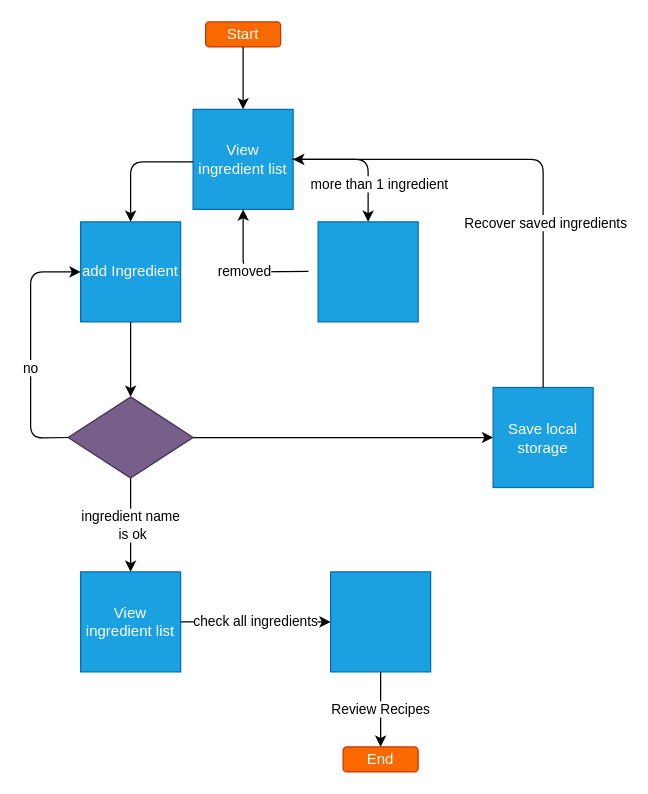
The diagram is 648 pixels wide and 794 high, and some of its shapes have lost their labels. The centre of each missing label's shape, as x and y in pixels:
"Ingredient valid?" belongs at (x=130, y=437).
"remove ingredient from the list" belongs at (x=367, y=271).
"Update recipes" belongs at (x=380, y=621).
